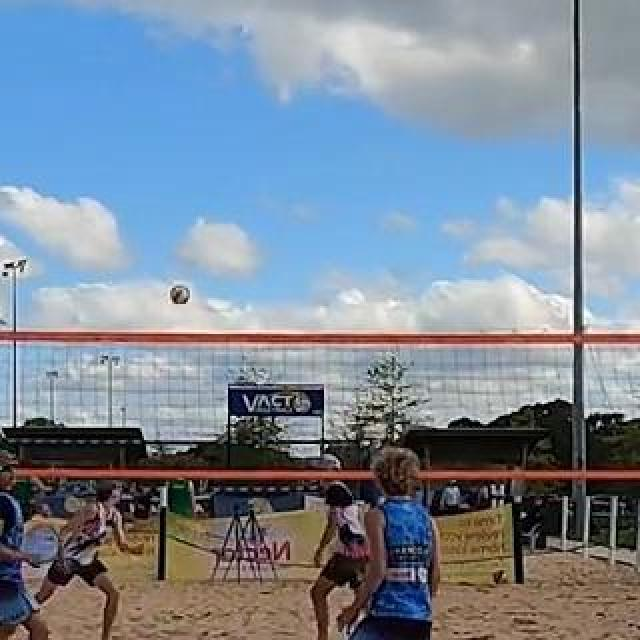volleyball: (168, 286, 192, 306), (492, 569, 510, 585)
